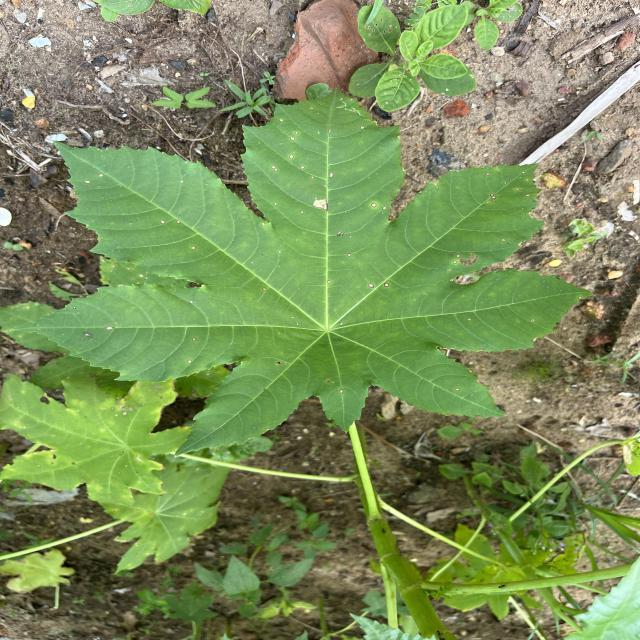Ricinus communis linn: (21, 80, 600, 463)
